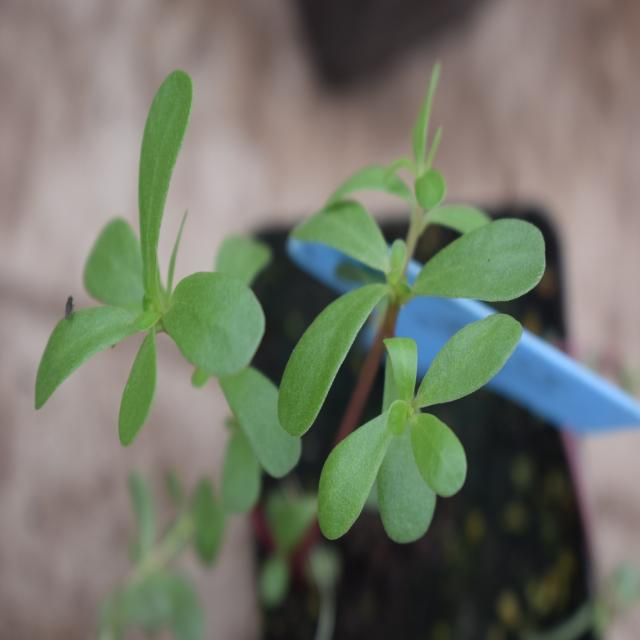purslane: (50, 81, 518, 523)
